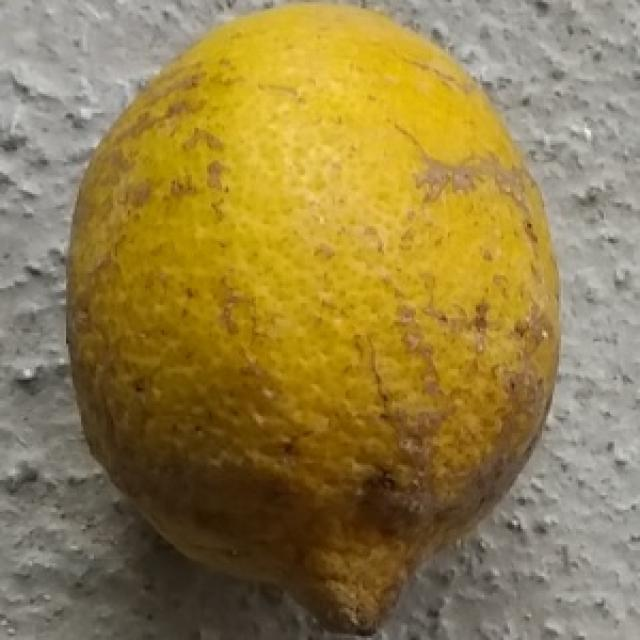overripe: (62, 5, 572, 640)
